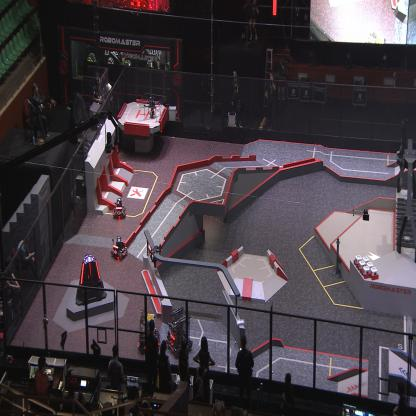car: (166, 305, 194, 355), (136, 309, 160, 355), (110, 235, 128, 260), (112, 196, 127, 220)
